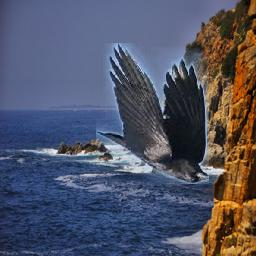Crow: (97, 44, 210, 185)
